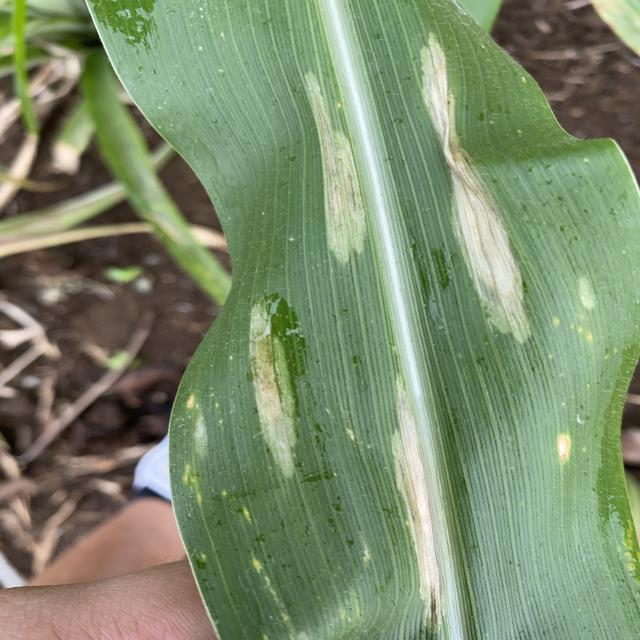Corn_Leaf_Blight: (132, 0, 623, 640)
